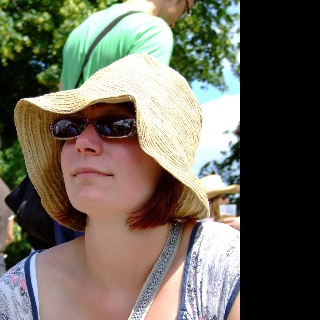without_mask: (60, 103, 162, 208), (218, 193, 228, 214)
